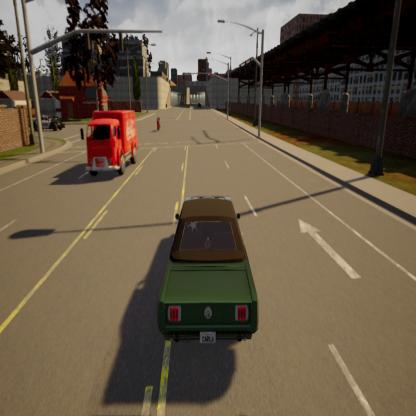Cars: (155, 172, 266, 359), (80, 99, 144, 190)
